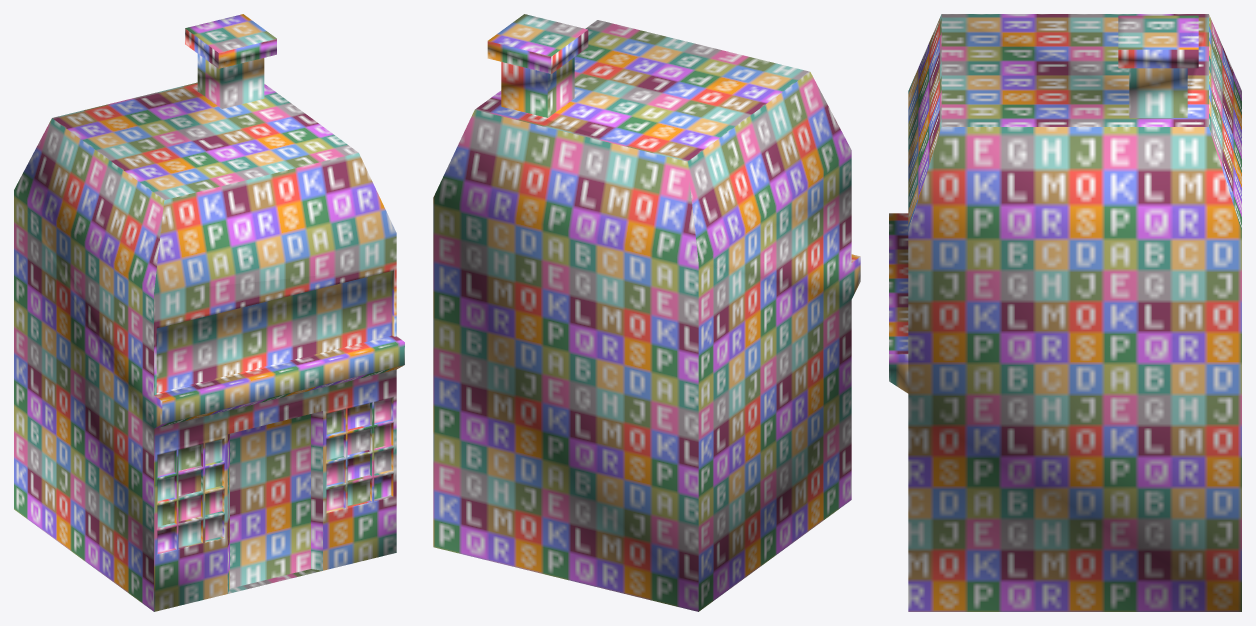
File: building_11.obj
3 views of the same model, side by side, from view 1: azimuth 30°, elevation 25°; view 2: azimuth 150°, elevation 25°; view 3: azimuth 270°, elevation 25° (orthographic). The views are drawn at different scales.
Visible parts, largest first — view 1: Cube3_copy5; view 2: Cube3_copy5; view 3: Cube3_copy5.
Boxes of the visible parts, <box> form: Cube3_copy5: <box>14,14,404,611</box>; Cube3_copy5: <box>433,14,860,611</box>; Cube3_copy5: <box>889,14,1241,611</box>.
Bounding box in the file's own units: 274 × 493 × 290.
Materials: 1 (1 with a texture image).
